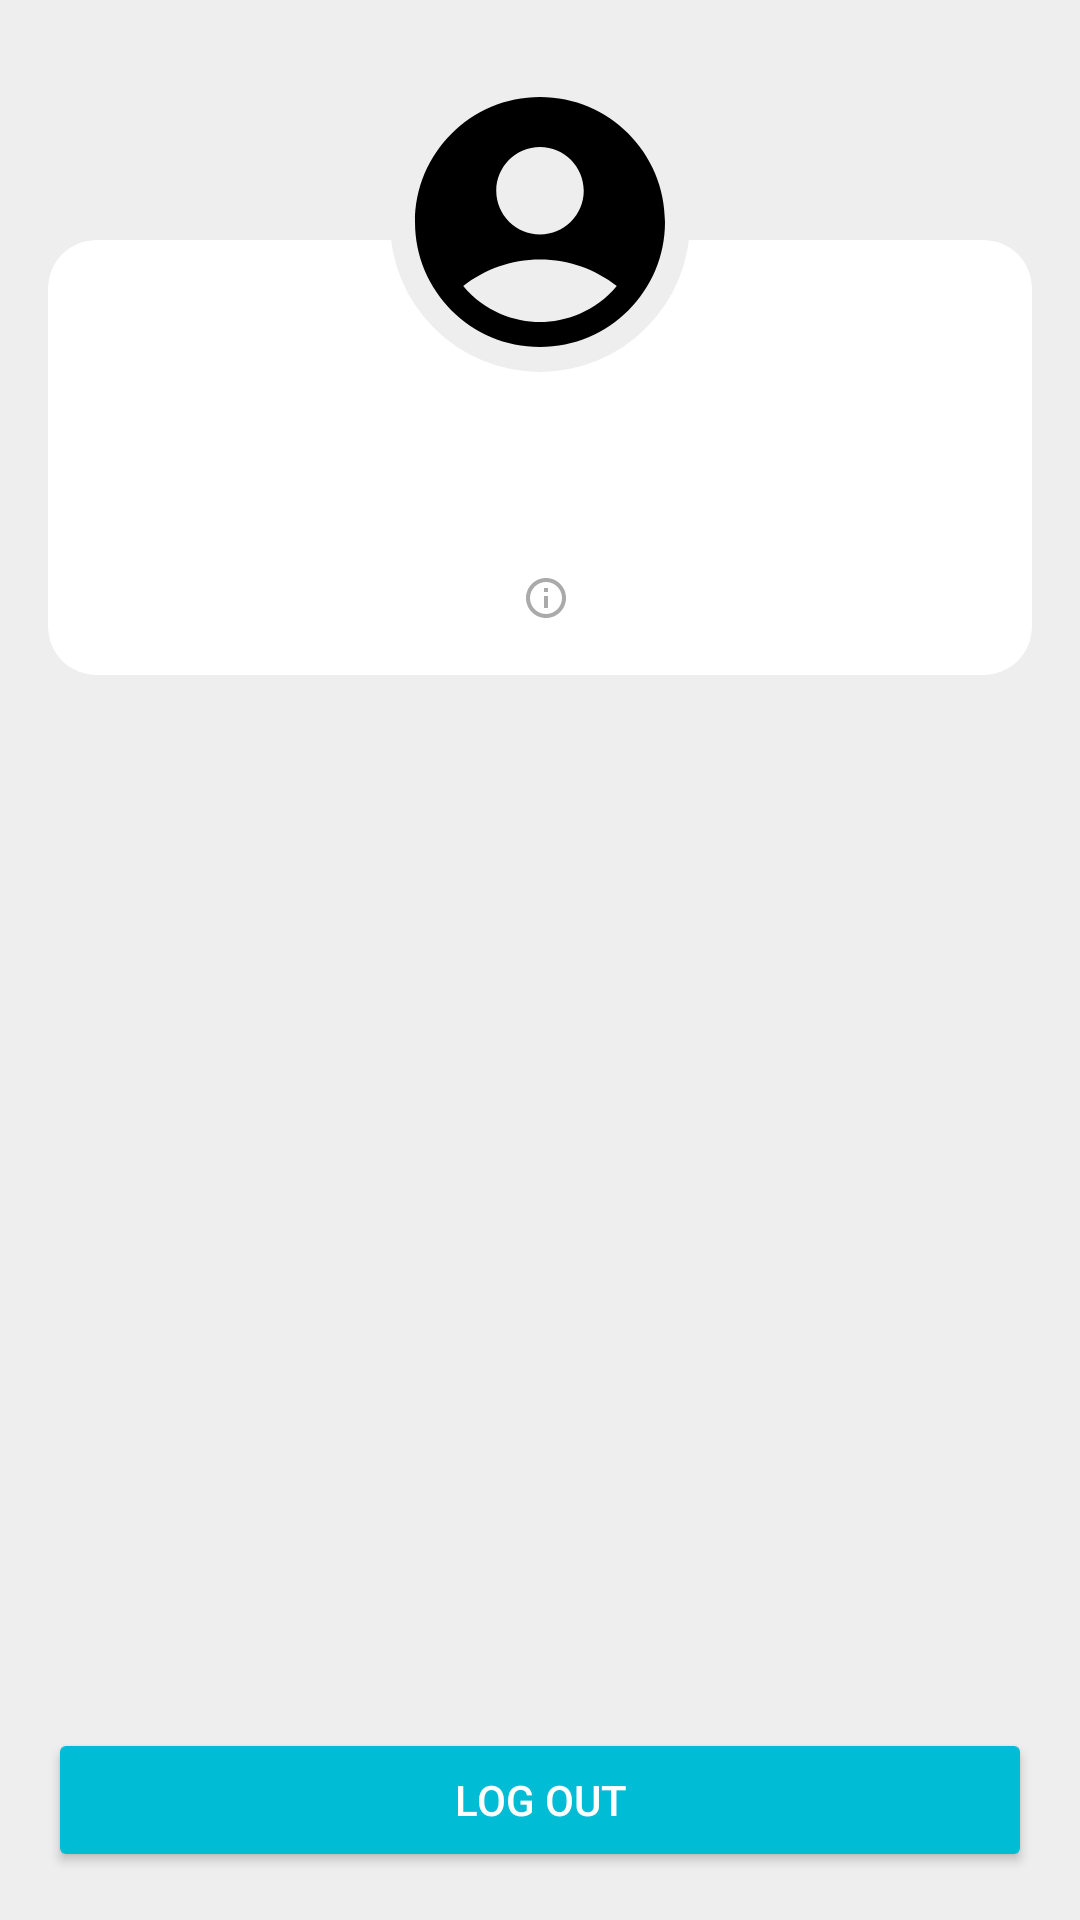

Screen size 1080x1920. Icon name, then its center in pixels as [x,y]:
account: [540,222]
